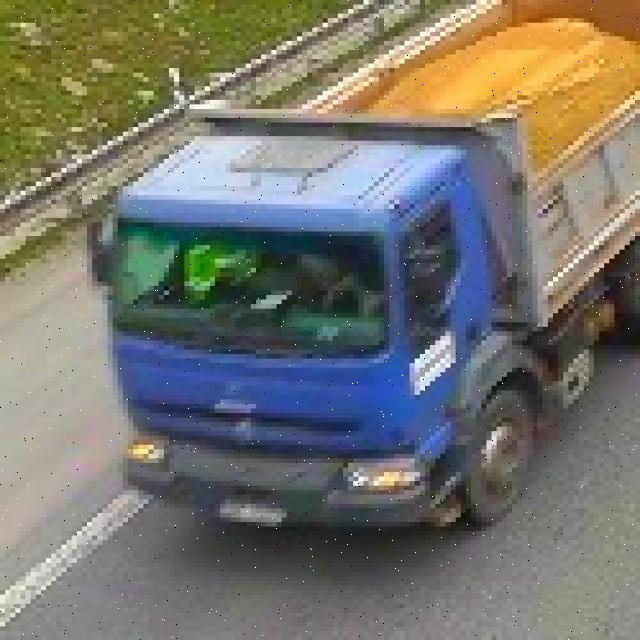truck: (97, 0, 640, 536)
